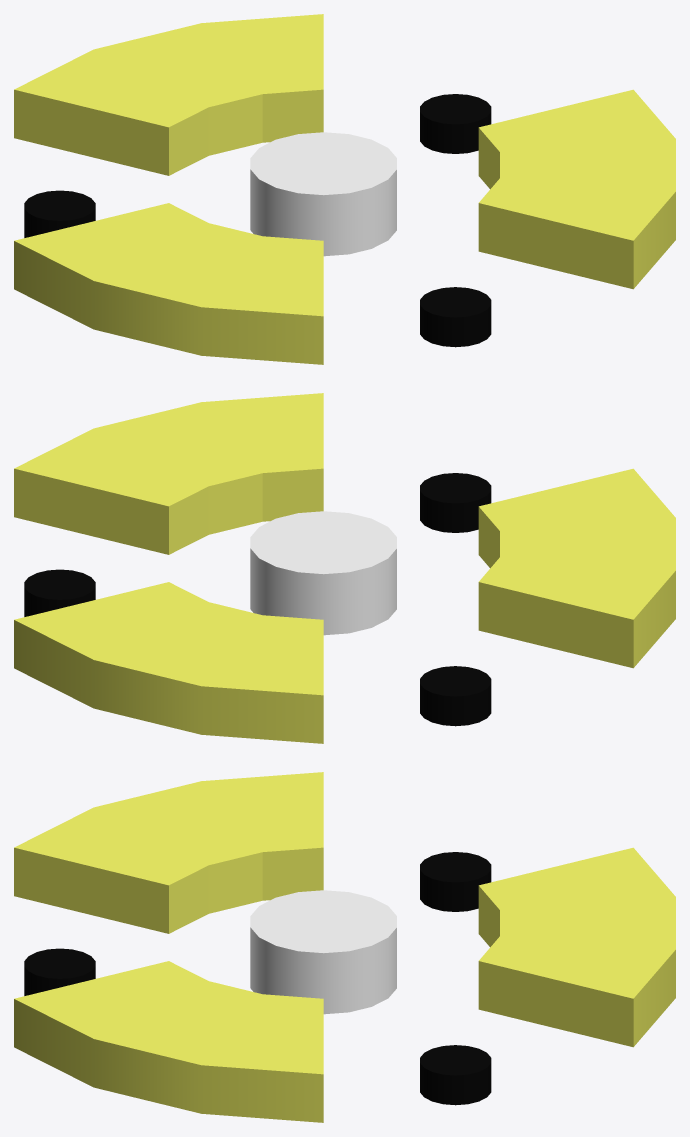
File: Single_Note.FBX
The picture shows the model from 3 angles, top to bottom: view 1: azimuth 30°, elevation 25°; view 2: azimuth 150°, elevation 25°; view 3: azimuth 270°, elevation 25°; orthographic projection.
Visible parts, largest first — view 1: Cylinder002; view 2: Cylinder002; view 3: Cylinder002.
Part boxes in pixels (x1,y1,x2,y2): Cylinder002: (14,14,675,364); Cylinder002: (14,393,675,743); Cylinder002: (14,772,675,1122).
Bounding box in the file's own units: 152 × 16.76 × 140.
1 material, 1 textured.
